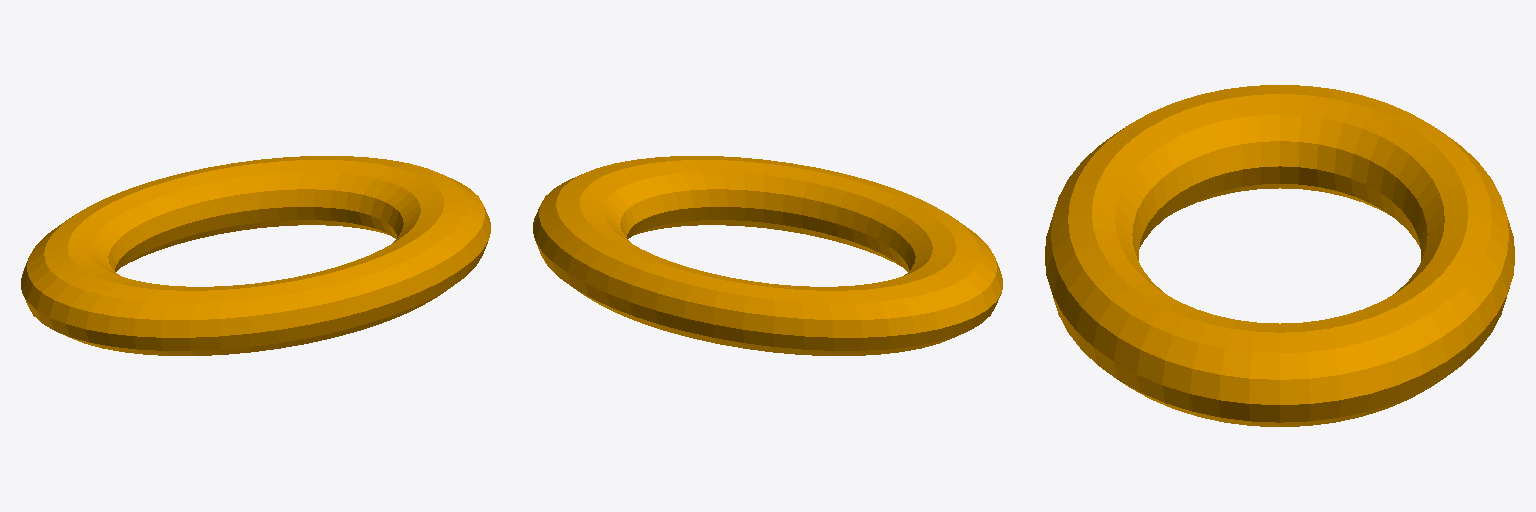
robot.urdf — chain_ring:
<?xml version="1.0" ?>
<robot name="chain_ring">
  <link name="torus">
    <visual>
      <origin xyz="0 0 0"/>
      <geometry>
        <mesh filename="package://meshes/torus.stl"/>
      </geometry>
    </visual>
    <collision>
      <origin xyz="0 0 0"/>
      <geometry>
        <mesh filename="package://meshes/torus.stl"/>
      </geometry>
    </collision>
    <inertial>
      <mass value="0.1"/>
      <inertia ixx="0.01" ixy="0.0" ixz="0.0" iyy="0.01" iyz="0.0" izz="0.01"/>
    </inertial>
  </link>
</robot>

--- What the picture shows (computed from the rendered views, not written in the file) ---
The picture shows the robot from 3 angles, left to right: view 1: azimuth 30°, elevation 25°; view 2: azimuth 150°, elevation 25°; view 3: azimuth 270°, elevation 25°; orthographic projection.
Model chain_ring with 1 links and 0 joints (none), rooted at torus, posed every joint at zero.
Links seen in each view (by area): view 1: torus; view 2: torus; view 3: torus.
Boxes of the visible links, x1,y1,x2,y2 form: torus: [21, 156, 490, 355]; torus: [533, 156, 1002, 355]; torus: [1045, 85, 1514, 426].
Size in the robot's own frame: 0.075 by 0.05 by 0.01 metres.
1 mesh visuals loaded from 1 distinct referenced files (1 binary STL).
